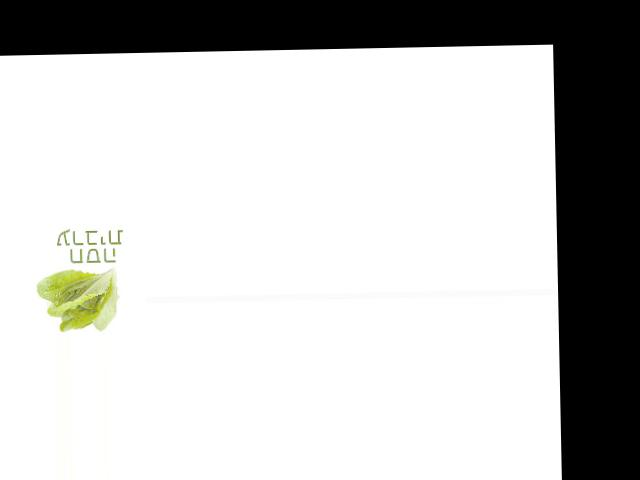lettuce: (35, 260, 124, 332)
